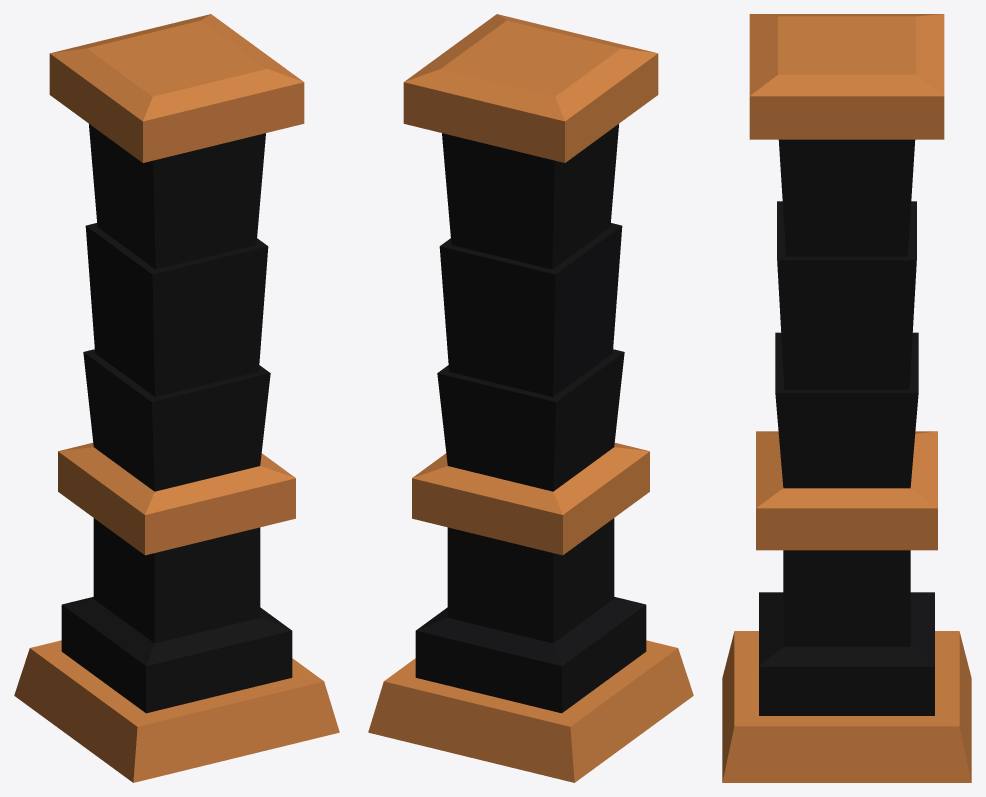
The model's file is pillar_1.FBX.
The picture shows the model from 3 angles, left to right: view 1: azimuth 30°, elevation 25°; view 2: azimuth 150°, elevation 25°; view 3: azimuth 270°, elevation 25°; orthographic projection. The views are drawn at different scales.
Visible parts, largest first — view 1: pillar_1; view 2: pillar_1; view 3: pillar_1.
Part boxes in pixels (x1,y1,x2,y2): pillar_1: (14,14,339,782); pillar_1: (368,14,693,782); pillar_1: (722,14,971,782).
Size of the model in its own units: 247 by 749 by 247.
